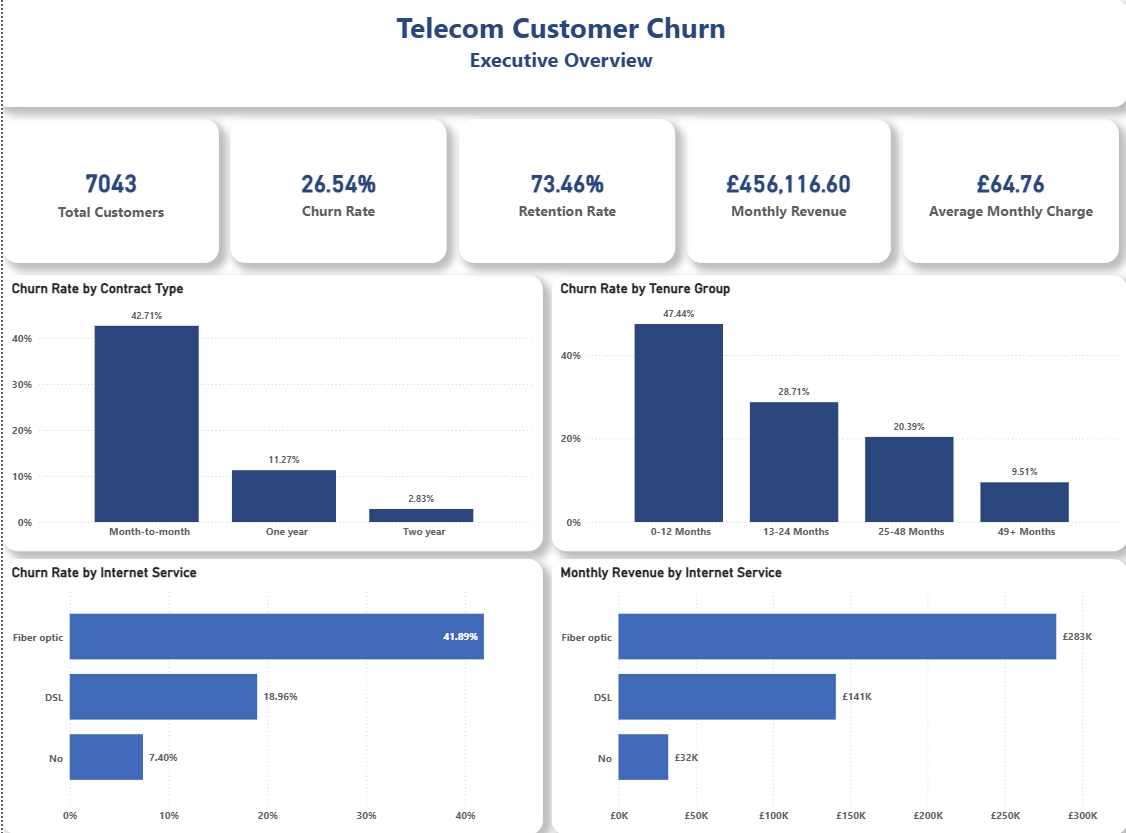

This screenshot's page, from the dashboard's own definition file:
{"tool":"powerbi","page":{"name":"Executive Overview","canvas":[1500,1115],"ordinal":0},"visuals":[{"type":"card","fields":{"Values":["Measures (2).Total Customers"]},"box":[0,160,288,192],"z":0},{"type":"card","fields":{"Values":["Measures (2).Churn Rate"]},"box":[304,160,288,192],"z":1000},{"type":"card","fields":{"Values":["Measures (2).Monthly Revenue"]},"box":[912,160,272,192],"z":2000},{"type":"card","fields":{"Values":["Measures (2).Average Monthly Charge"]},"box":[1200,160,288,192],"z":3000},{"type":"textbox","box":[-12,0,1512,144],"z":4000},{"type":"clusteredColumnChart","title":"Churn Rate by Contract Type","fields":{"Category":["vw_telecom_churn_bi.contract"],"Y":["Measures (2).Churn Rate"]},"box":[0,368,720,368],"z":5000},{"type":"clusteredColumnChart","title":"Churn Rate by Tenure Group","fields":{"Category":["vw_telecom_churn_bi.tenure_group"],"Y":["Measures (2).Churn Rate"]},"box":[732,368,768,368],"z":6000},{"type":"card","fields":{"Values":["Measures (2).Retention Rate"]},"box":[608,160,288,192],"z":7000},{"type":"clusteredBarChart","title":"Churn Rate by Internet Service","fields":{"Category":["vw_telecom_churn_bi.internet_service"],"Y":["Measures (2).Churn Rate"]},"box":[0,747,720,368],"z":8000},{"type":"clusteredBarChart","title":"Monthly Revenue by Internet Service","fields":{"Y":["Measures (2).Monthly Revenue"],"Category":["vw_telecom_churn_bi.internet_service"]},"box":[732,747,768,368],"z":9000}]}

Visuals, with their boxes in screenshot pixels (x1, y1, x2, y2), scaled from the page's 1500x1115 canvas onto the 1126x833 screenshot:
card - Measures (2).Total Customers: (0, 120, 216, 263)
card - Measures (2).Churn Rate: (228, 120, 444, 263)
card - Measures (2).Monthly Revenue: (685, 120, 889, 263)
card - Measures (2).Average Monthly Charge: (901, 120, 1117, 263)
textbox: (0, 0, 1125, 108)
"Churn Rate by Contract Type" clusteredColumnChart: (0, 275, 540, 550)
"Churn Rate by Tenure Group" clusteredColumnChart: (549, 275, 1125, 550)
card - Measures (2).Retention Rate: (456, 120, 673, 263)
"Churn Rate by Internet Service" clusteredBarChart: (0, 558, 540, 832)
"Monthly Revenue by Internet Service" clusteredBarChart: (549, 558, 1125, 832)
